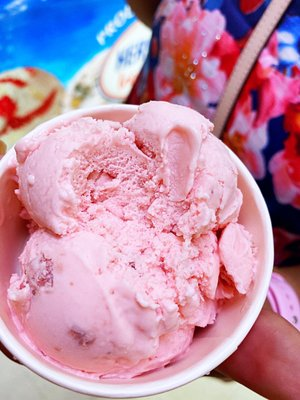pizza: (212, 302, 300, 400)
